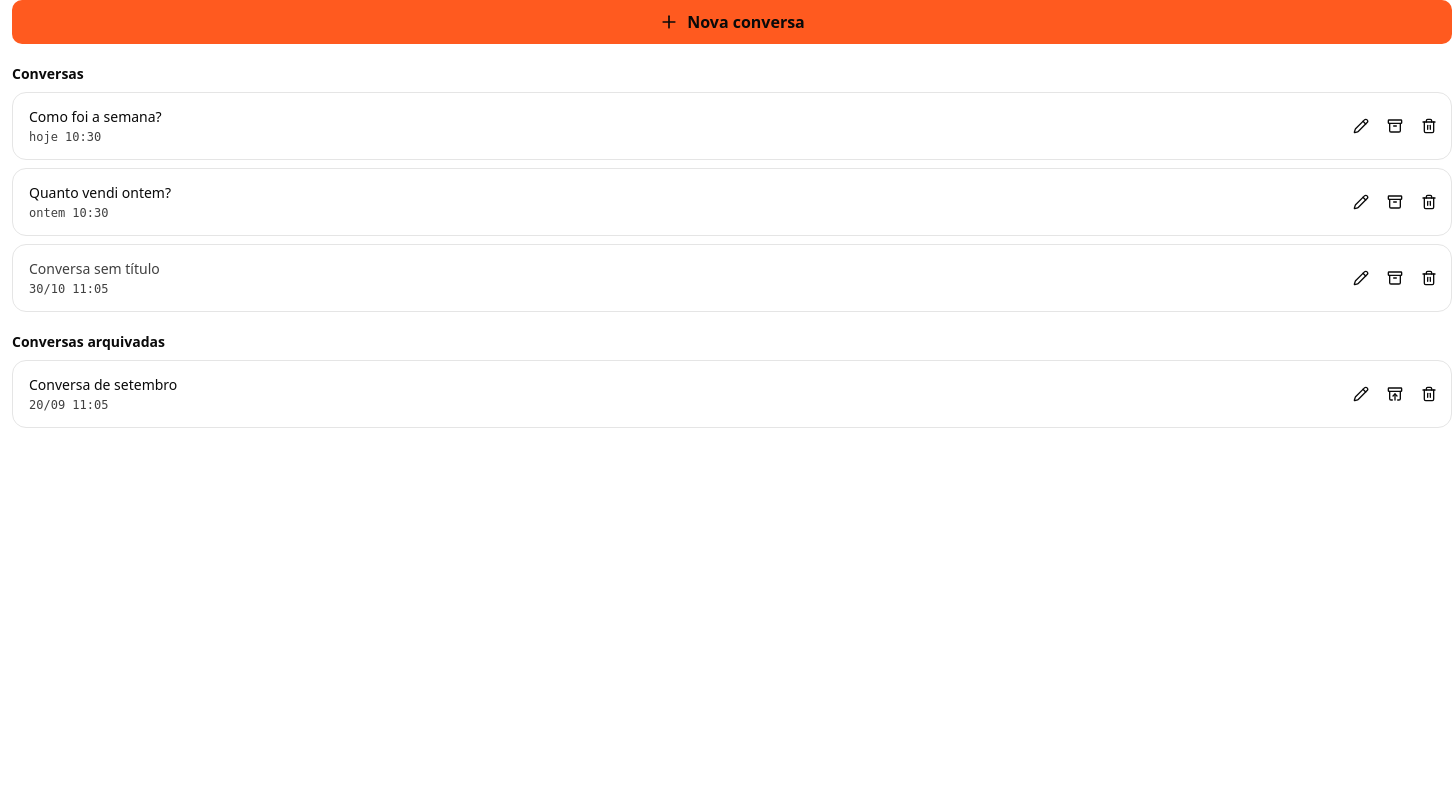
Test: lista de conversas do mentor: renomear › quando a ação recusa, mostra a frase do produto e mantém o título
The width and height of the screenshot is (1452, 810).
Click the button named "Renomear a conversa \"Quanto vendi ontem?\"".
click(1361, 202)  # box [1345,186,1377,218]
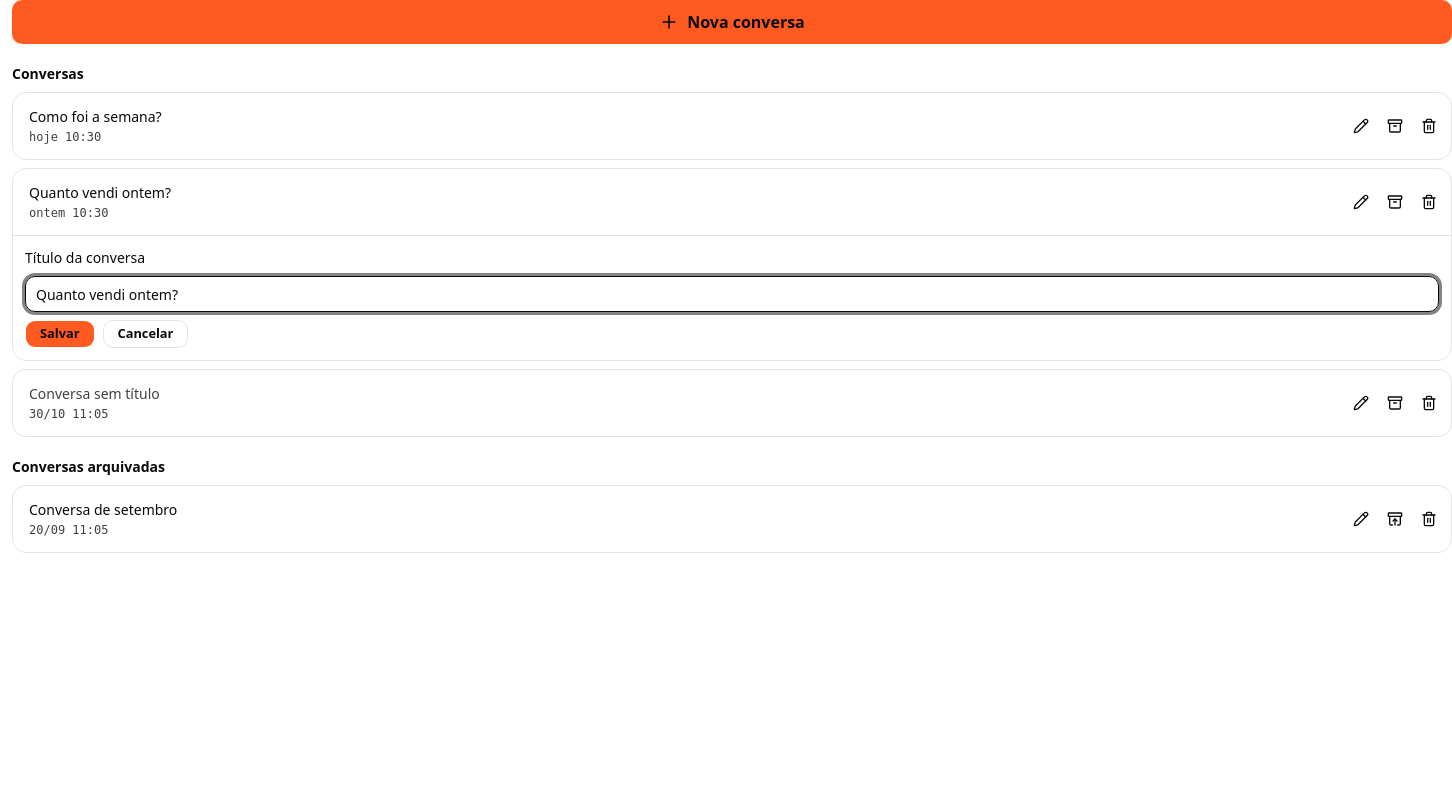
Replace the text in the field labelled "Título da conversa" with "Um título que o servidor não aceitou" at {"x": 732, "y": 294}, box [25,276,1439,312]
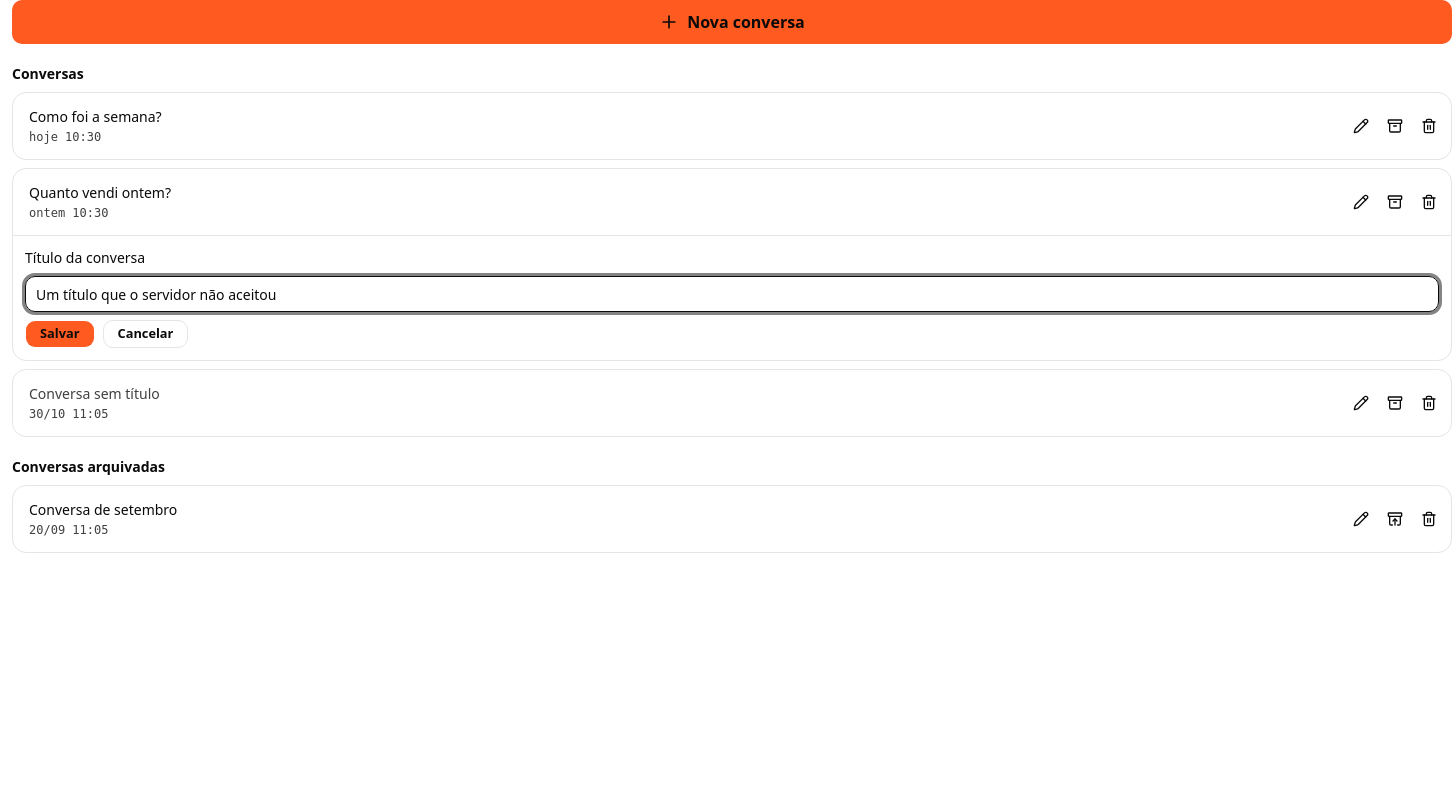
Click the button "Salvar".
click(60, 334)  # box [25,320,94,348]
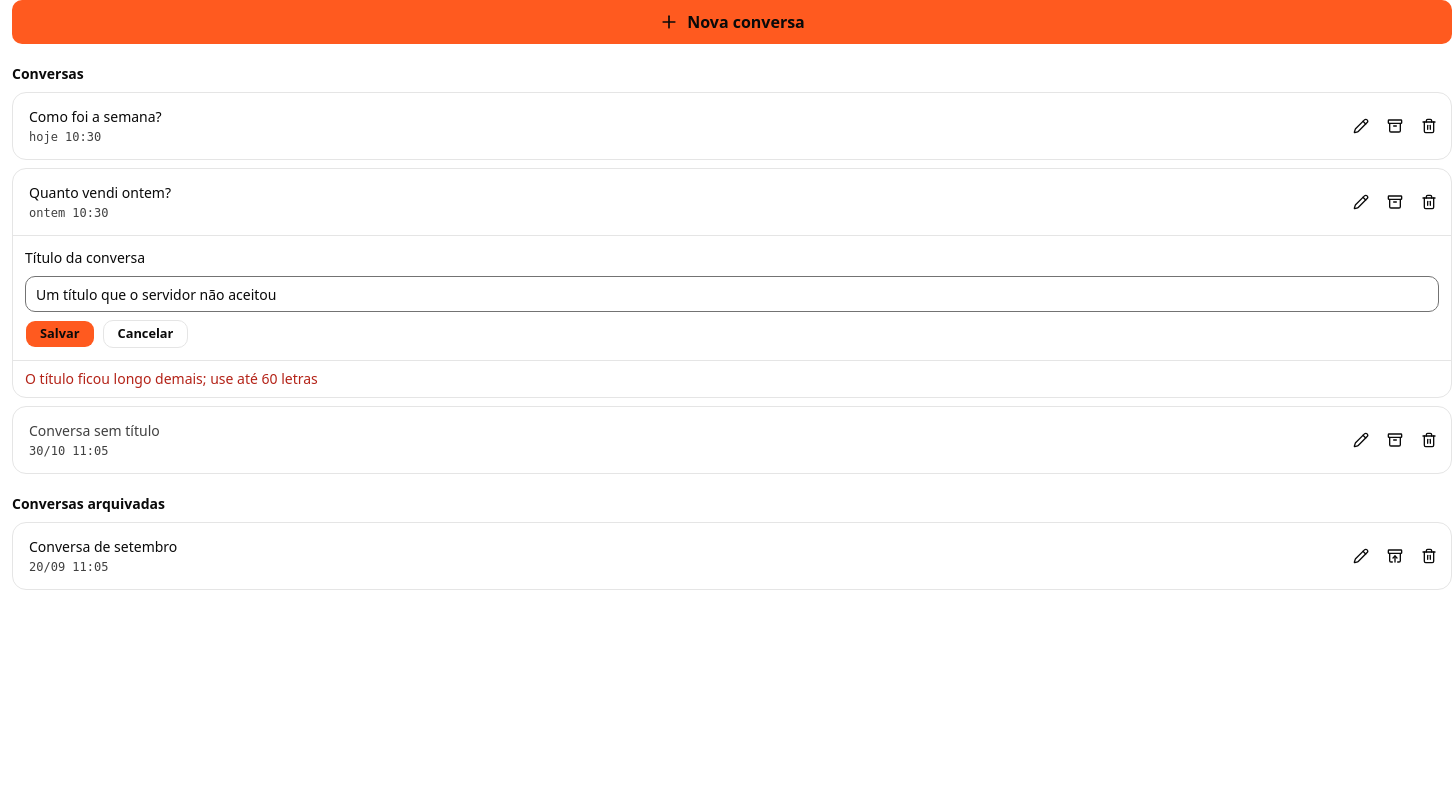
Check: the text "Quanto vendi ontem?" is shown, box [29,183,171,202]
Check: the message reads "o título ficou longo demais; use até 60 letras", box [25,369,318,388]
